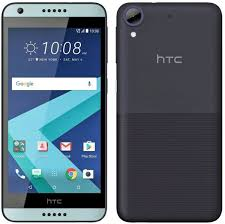htc: (113, 1, 225, 224), (1, 1, 108, 223)
